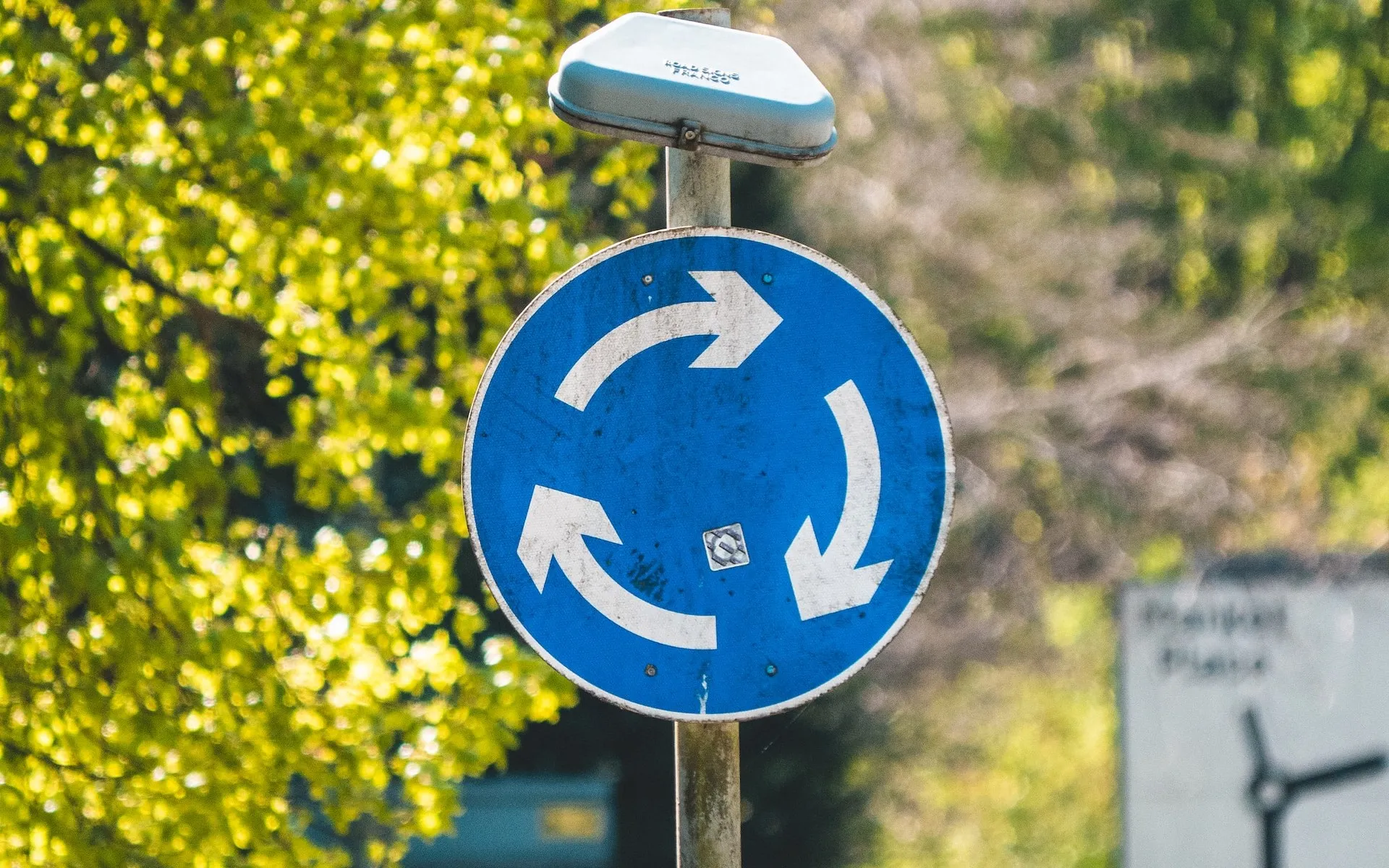roundabout: (449, 183, 949, 732)
